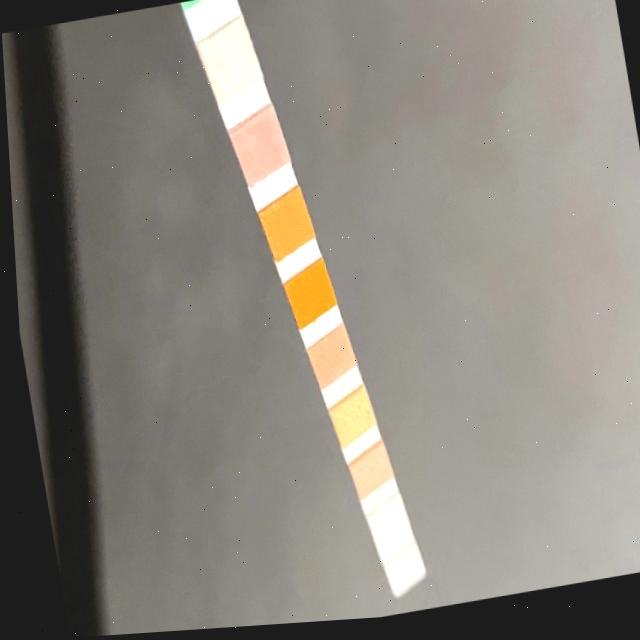Bilirubin: (202, 34, 253, 91)
Blood: (285, 276, 329, 320)
Ketone: (232, 124, 282, 175)
Leukocytes: (379, 566, 416, 589)
Nitrite: (362, 513, 399, 538)
Protein: (326, 405, 368, 438)
SpGravity: (261, 208, 307, 252)
Urobilinogen: (343, 462, 384, 490)
pH: (304, 342, 348, 380)
